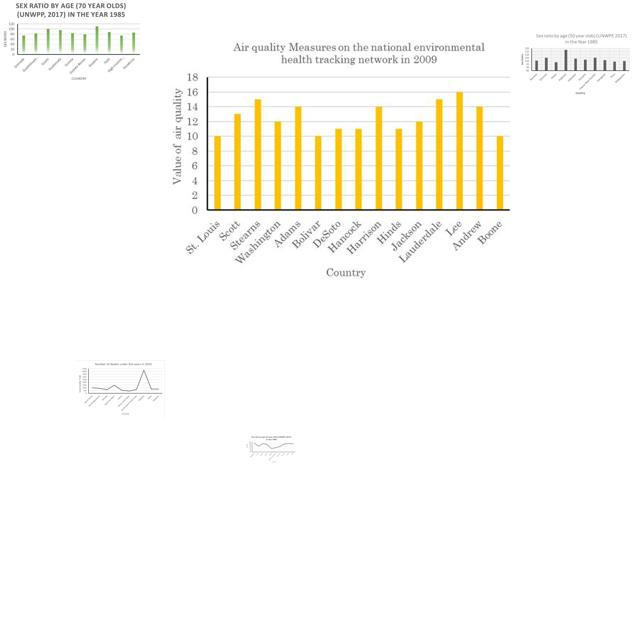Graph: (165, 35, 518, 285), (0, 0, 142, 82), (518, 32, 631, 95), (76, 360, 165, 418), (246, 435, 296, 463)
